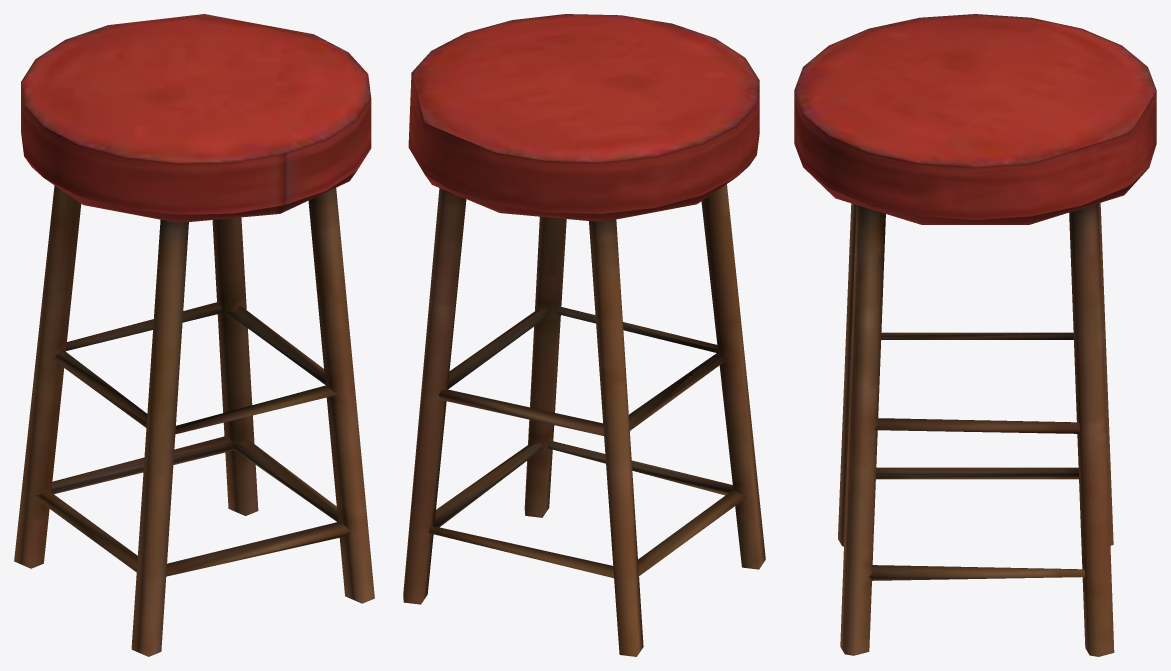
File: bar-stool.lod1.glb
The picture shows the model from 3 angles, left to right: view 1: azimuth 30°, elevation 25°; view 2: azimuth 150°, elevation 25°; view 3: azimuth 270°, elevation 25°; orthographic projection. The views are drawn at different scales.
Visible parts, largest first — view 1: Object_5; view 2: Object_5; view 3: Object_5.
Boxes of the visible parts, left/top/right/bottom form: Object_5: left=14, top=14, right=374, bottom=656; Object_5: left=403, top=14, right=765, bottom=656; Object_5: left=794, top=14, right=1156, bottom=656.
Bounding box in the file's own units: 0.5102 × 0.8 × 0.5102.
1 material, 1 textured.
